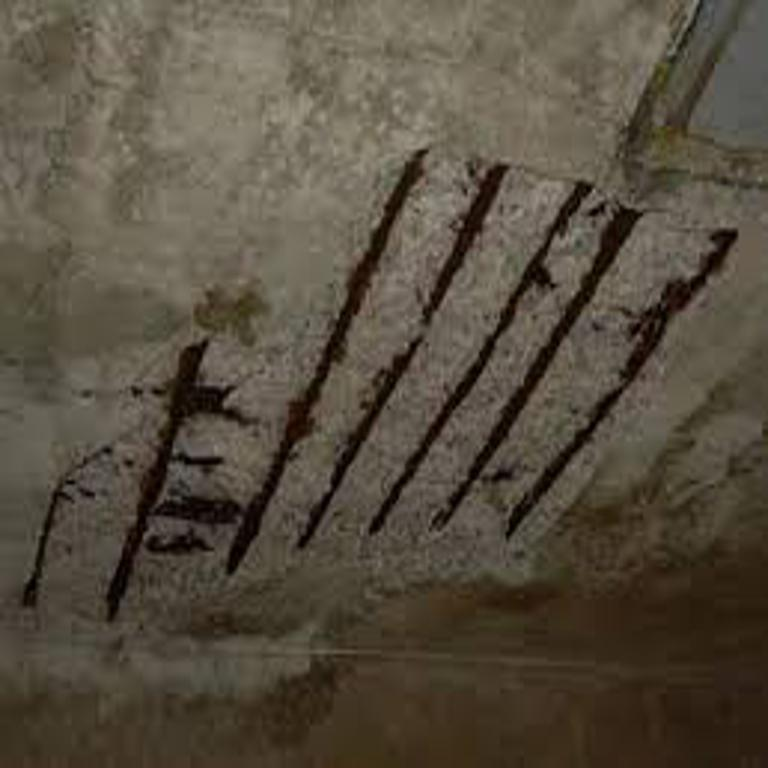exposed_rebar: (226, 148, 425, 574), (297, 164, 510, 548), (370, 182, 591, 534), (506, 230, 738, 538), (430, 206, 641, 531), (106, 339, 249, 621), (21, 444, 110, 608), (147, 528, 213, 554)
spalling: (24, 147, 738, 634)
